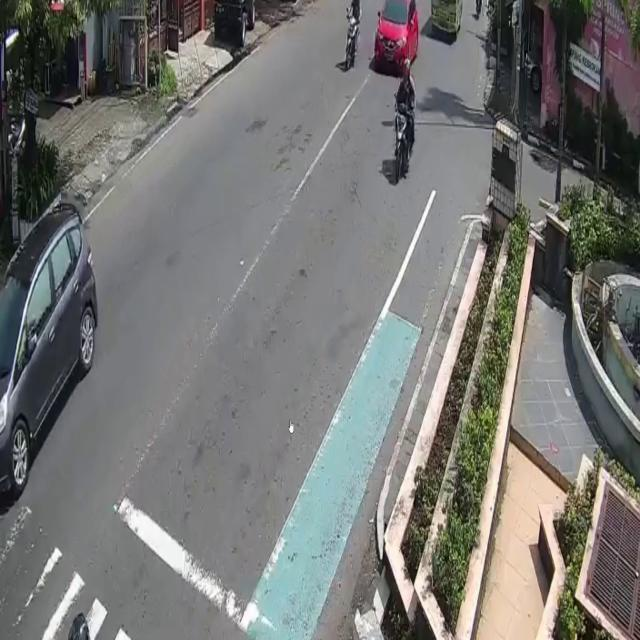bus: (392, 101, 414, 180), (344, 9, 360, 68)
motorcycle: (0, 199, 100, 506), (375, 1, 420, 76)
truck: (430, 0, 463, 47)
